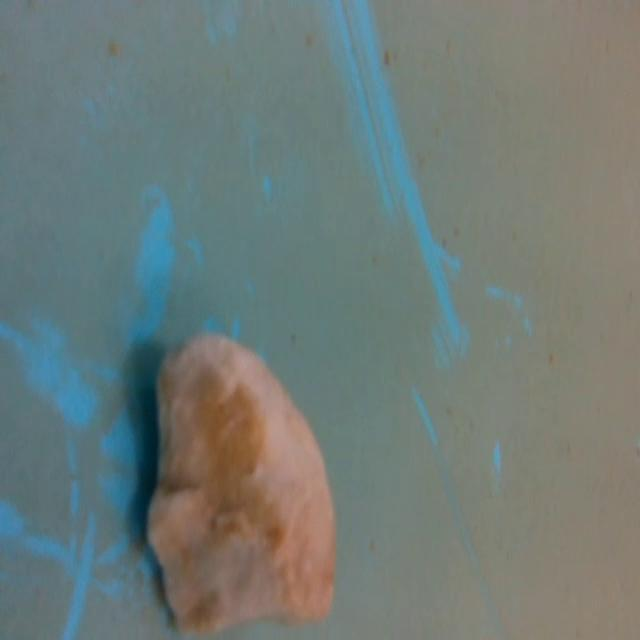rock: (140, 326, 340, 640)
